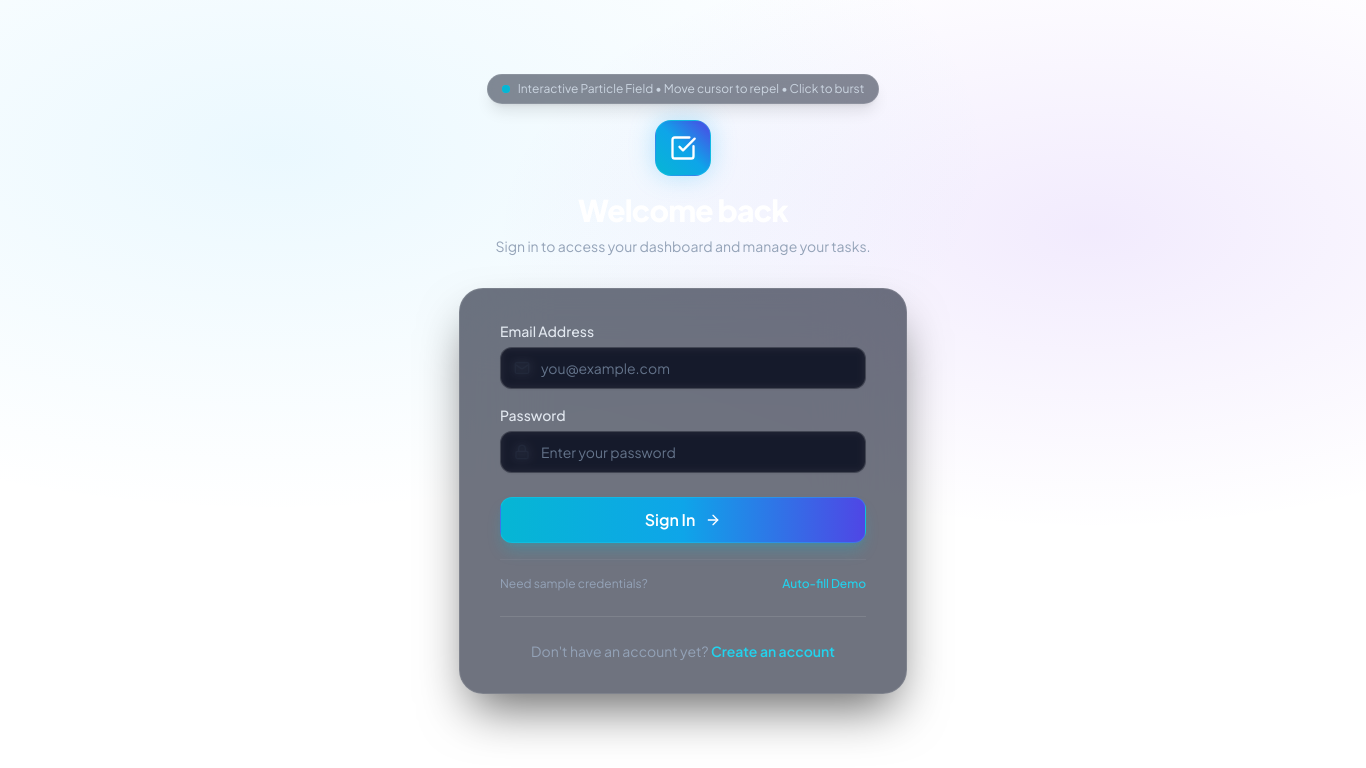
Test: LoginPage Component › validates required email and password fields on submit
Click the button "Sign In". click: point(683, 520)
box: [500,497,866,543]
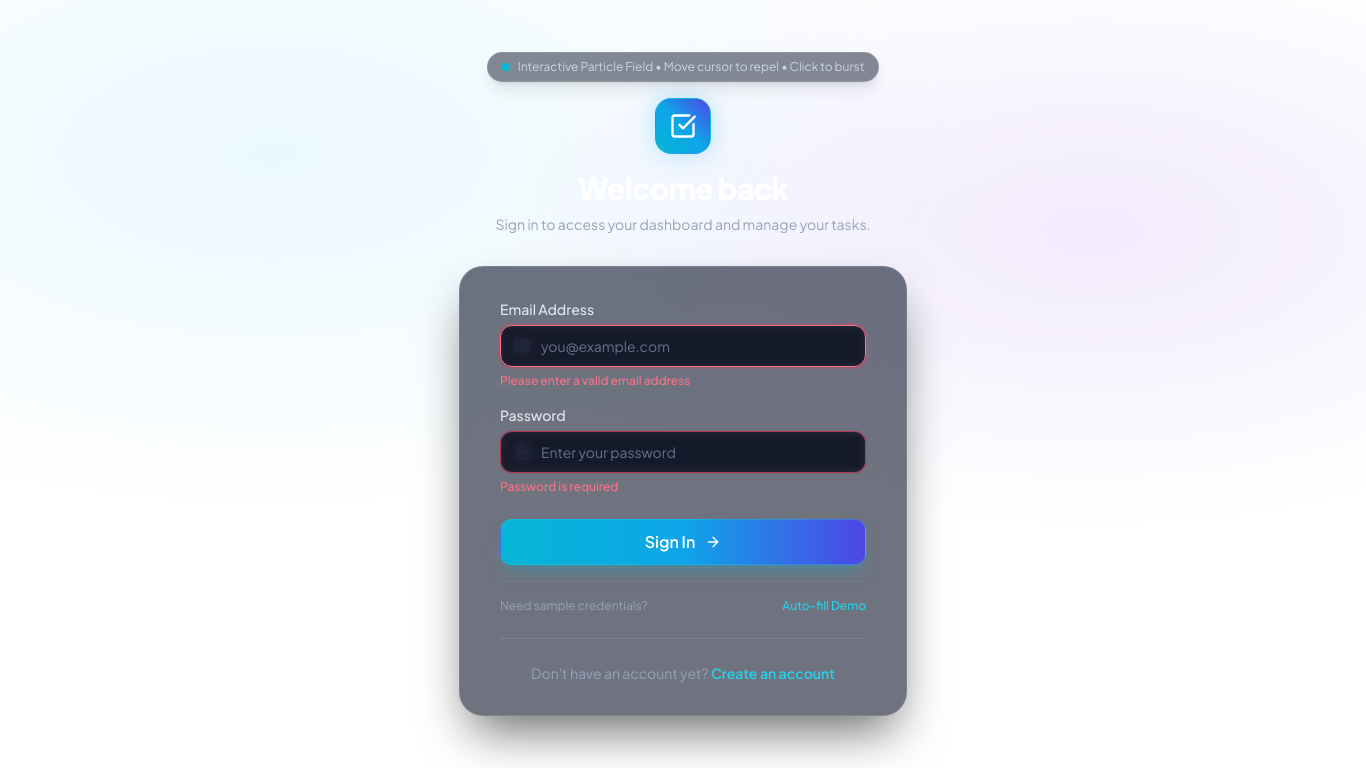
Now the text "Please enter a valid email address" is shown, box [500,373,690,388]
Now the text "Password is required" is shown, box [500,479,618,494]
